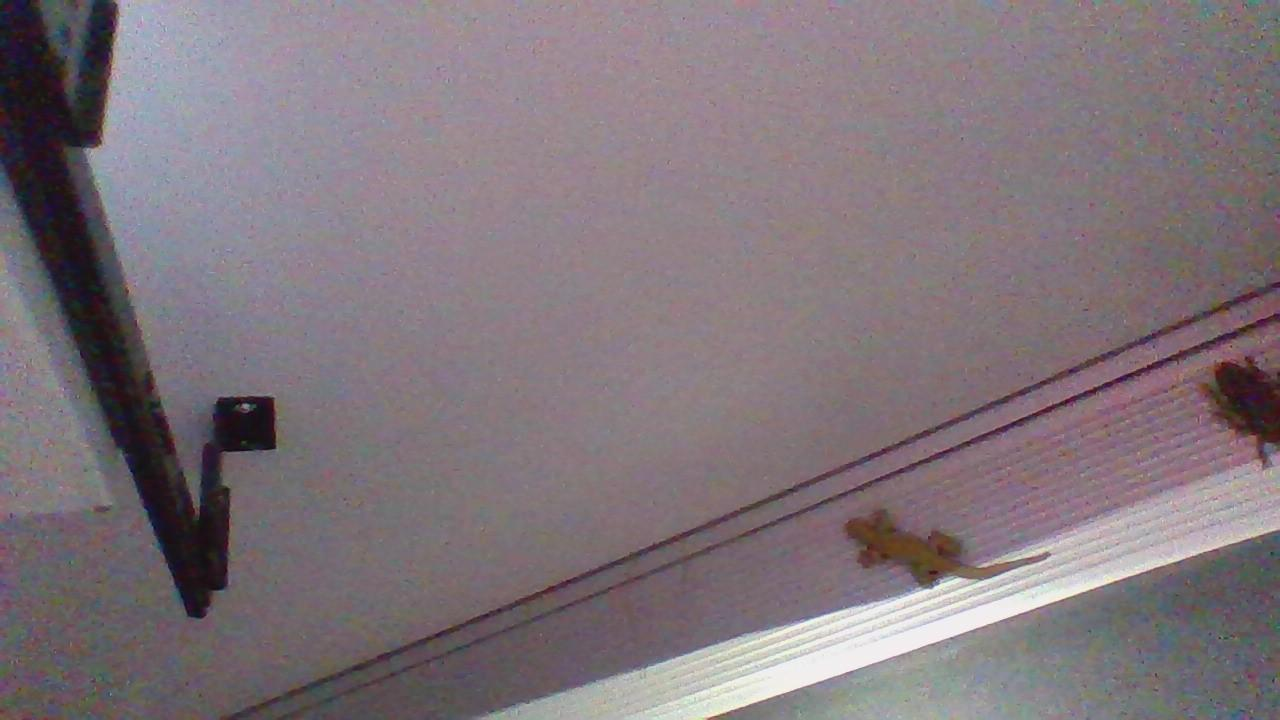cockroach: (1195, 350, 1280, 462)
lizard: (822, 503, 1048, 580)
